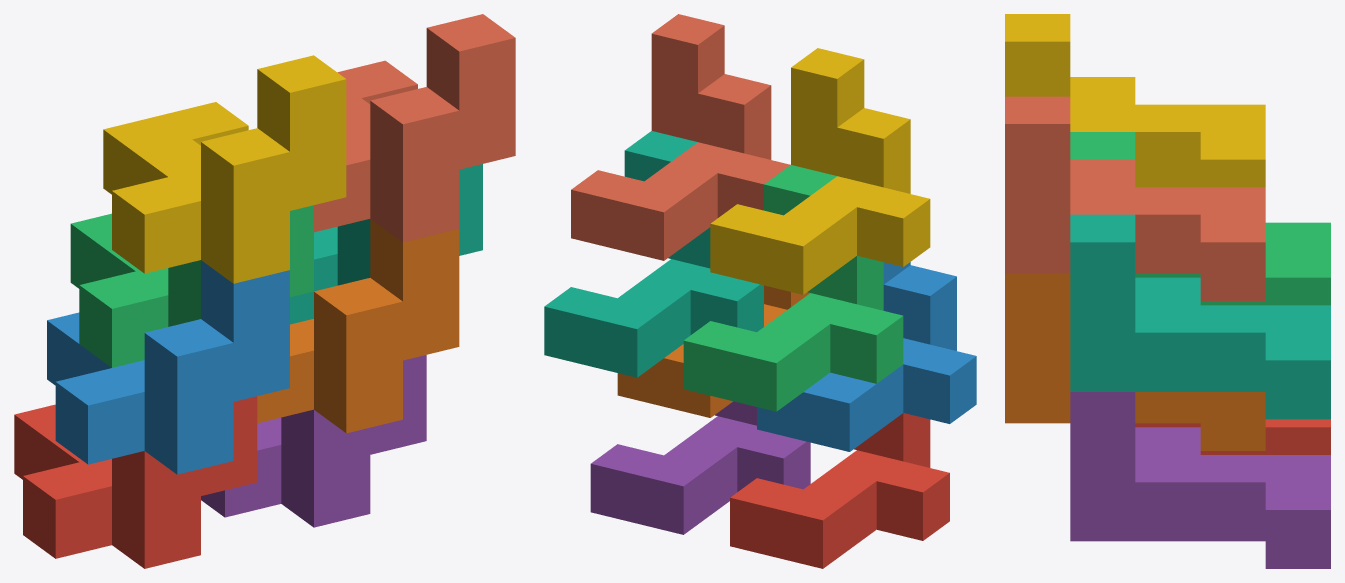
File: tiling.obj
3 views of the same model, side by side, from view 1: azimuth 30°, elevation 25°; view 2: azimuth 150°, elevation 25°; view 3: azimuth 270°, elevation 25° (orthographic). The views are drawn at different scales.
Visible parts, largest first — view 1: copy_1_domain_4, copy_1_domain_2, copy_1_domain_8, copy_1_domain_6, copy_1_domain_1, copy_1_domain_5, copy_1_domain_3, copy_1_domain_7; view 2: copy_1_domain_4, copy_1_domain_8, copy_1_domain_3, copy_1_domain_1, copy_1_domain_7, copy_1_domain_2, copy_1_domain_5, copy_1_domain_6; view 3: copy_1_domain_7, copy_1_domain_5, copy_1_domain_8, copy_1_domain_4, copy_1_domain_6, copy_1_domain_3, copy_1_domain_1.
Part boxes in pixels (x1,y1,x2,y2): copy_1_domain_4: (103,55,346,283); copy_1_domain_2: (47,260,289,474); copy_1_domain_8: (314,14,515,242); copy_1_domain_6: (257,219,459,433); copy_1_domain_1: (14,396,257,568); copy_1_domain_5: (201,355,426,527); copy_1_domain_3: (70,205,313,367); copy_1_domain_7: (290,164,482,324); copy_1_domain_4: (710,48,930,294); copy_1_domain_8: (571,14,790,260); copy_1_domain_3: (683,165,903,411); copy_1_domain_1: (730,413,949,568); copy_1_domain_7: (544,131,763,377); copy_1_domain_2: (757,262,976,451); copy_1_domain_5: (590,401,810,534); copy_1_domain_6: (617,285,809,417); copy_1_domain_7: (1070,214,1330,419); copy_1_domain_5: (1070,392,1330,568); copy_1_domain_8: (1005,96,1265,301); copy_1_domain_4: (1005,14,1265,187); copy_1_domain_6: (1005,273,1265,450); copy_1_domain_3: (1070,132,1330,305); copy_1_domain_1: (1135,419,1330,454).
Size of the model in its own units: 7 by 8 by 5.
